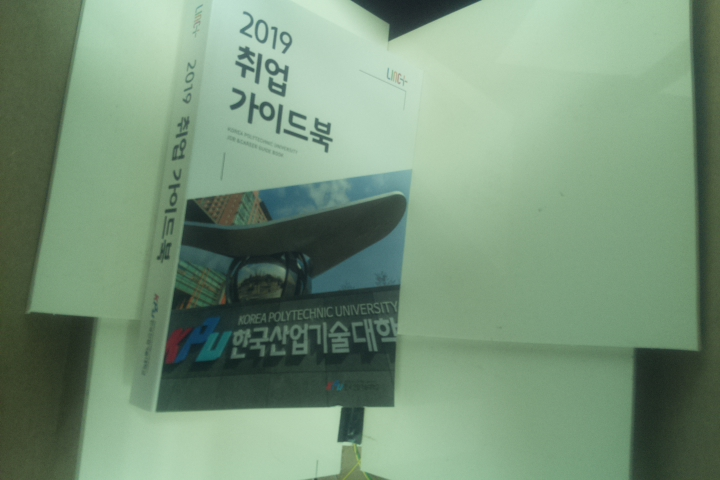book: (125, 1, 425, 416)
